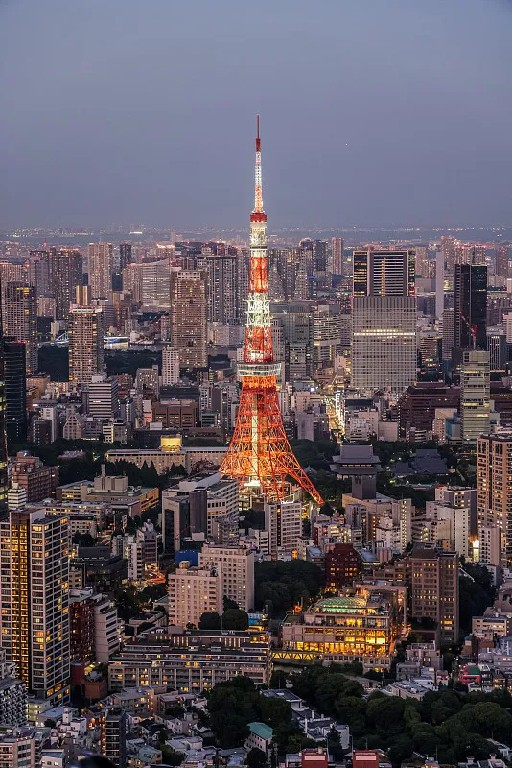Tokyo: (215, 111, 323, 505)
